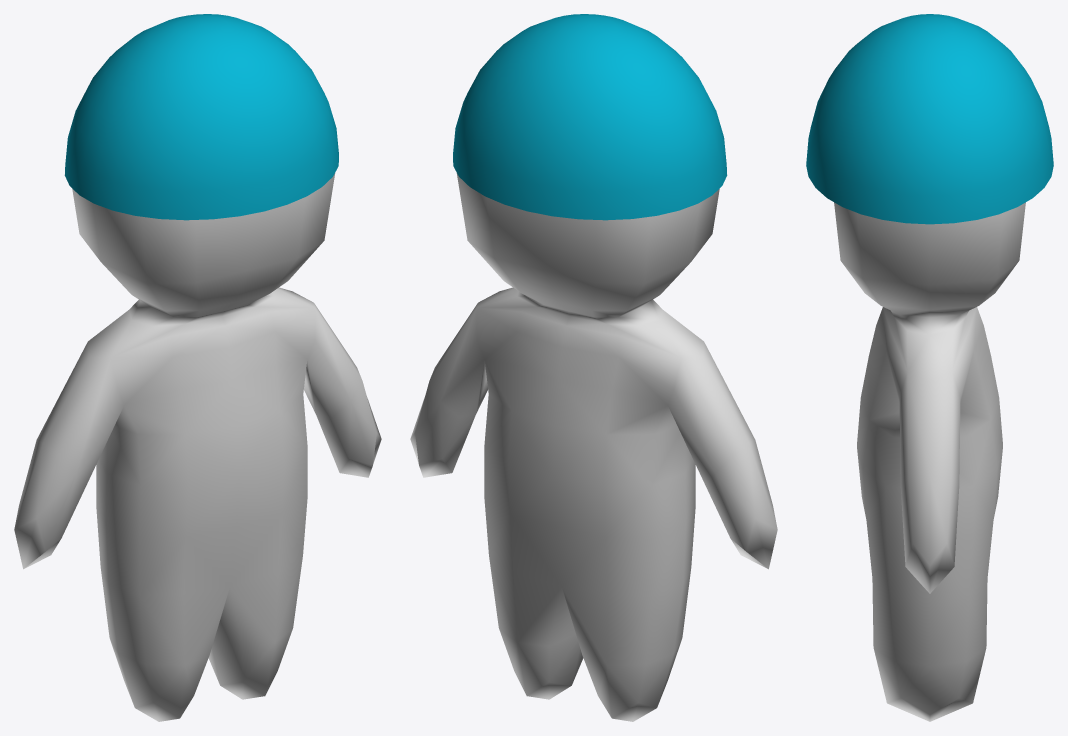
File: unit_blue.fbx
3 renders of one model, left to right at view 1: azimuth 30°, elevation 25°; view 2: azimuth 150°, elevation 25°; view 3: azimuth 270°, elevation 25°, orthographic.
Parts seen in each view (by area): view 1: 立方体, 球; view 2: 立方体, 球; view 3: 立方体, 球.
Part boxes in pixels (x1=…): 立方体: x1=14, y1=173, x2=381, y2=721; 球: x1=64, y1=14, x2=338, y2=220; 立方体: x1=410, y1=173, x2=777, y2=721; 球: x1=453, y1=14, x2=727, y2=220; 立方体: x1=834, y1=202, x2=1025, y2=721; 球: x1=806, y1=14, x2=1053, y2=224.
Size of the model in its own units: 330 by 589 by 195.
